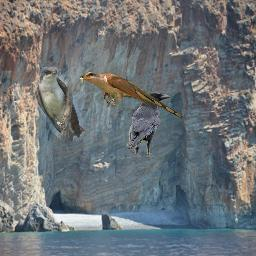Crow: (125, 92, 171, 157)
Cuckoo: (77, 71, 183, 118)
Swallow: (35, 67, 85, 142)
